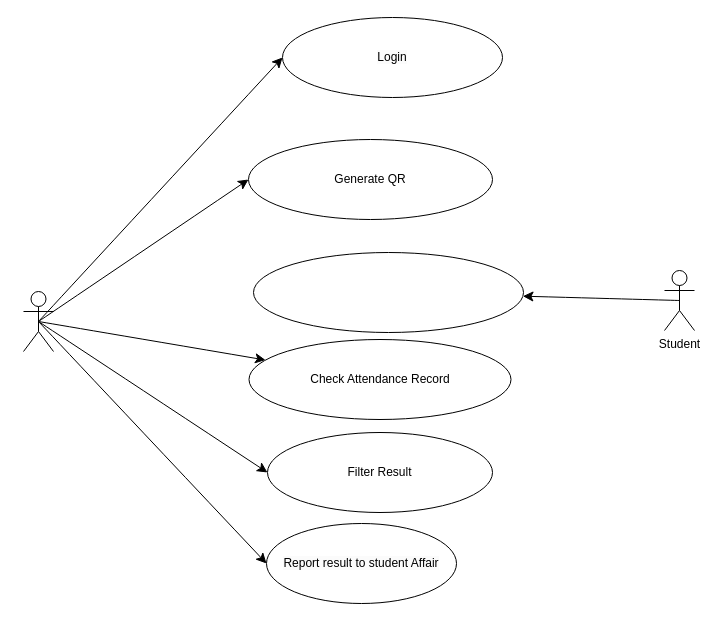
This 717x621 diagram has some shape labels left out. The shapes that lost their labels are listed below. From the top down, each one's centre as x and y in pixels, then its label:
pixel 388 292: Scan QR
pixel 38 321: Teacher
